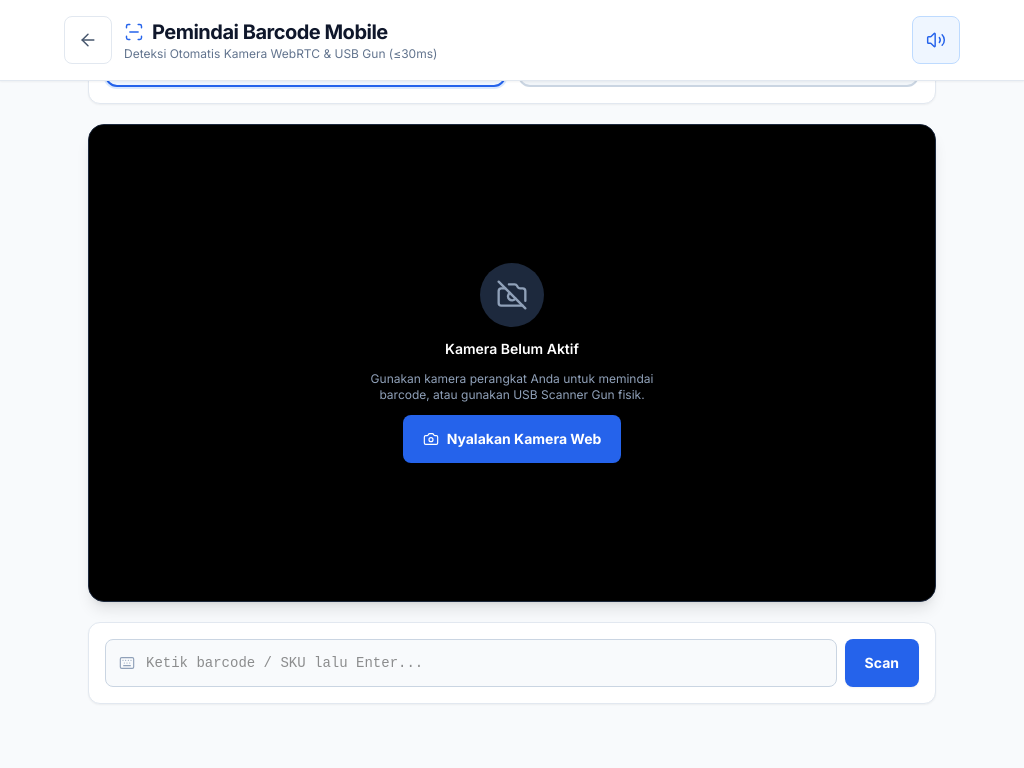
it: Scanner PUTAWAY mode uses real backend › product with no staging stock shows error and does not post
(page scrolled)
In the field with placeholder "Ketik barcode / SKU lalu Enter...": (471,663) x1=105 y1=639 x2=837 y2=687, type "RAK-A-01"
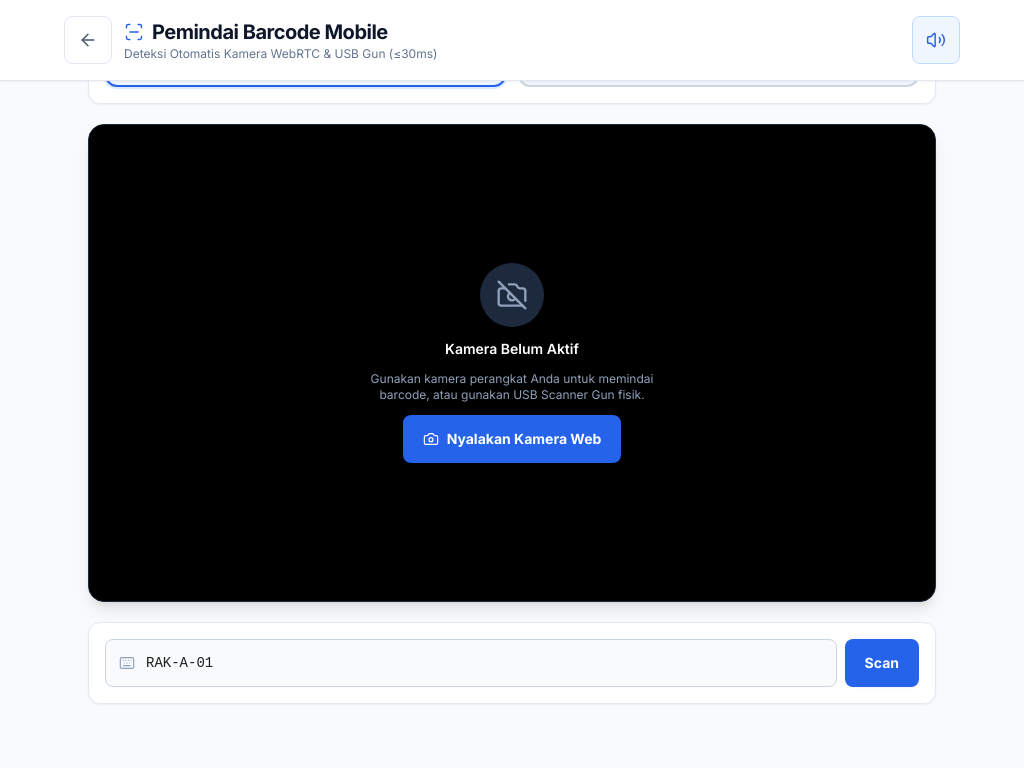
Submit the form with placeholder "Ketik barcode", box x1=105 y1=639 x2=919 y2=687
(page scrolled)
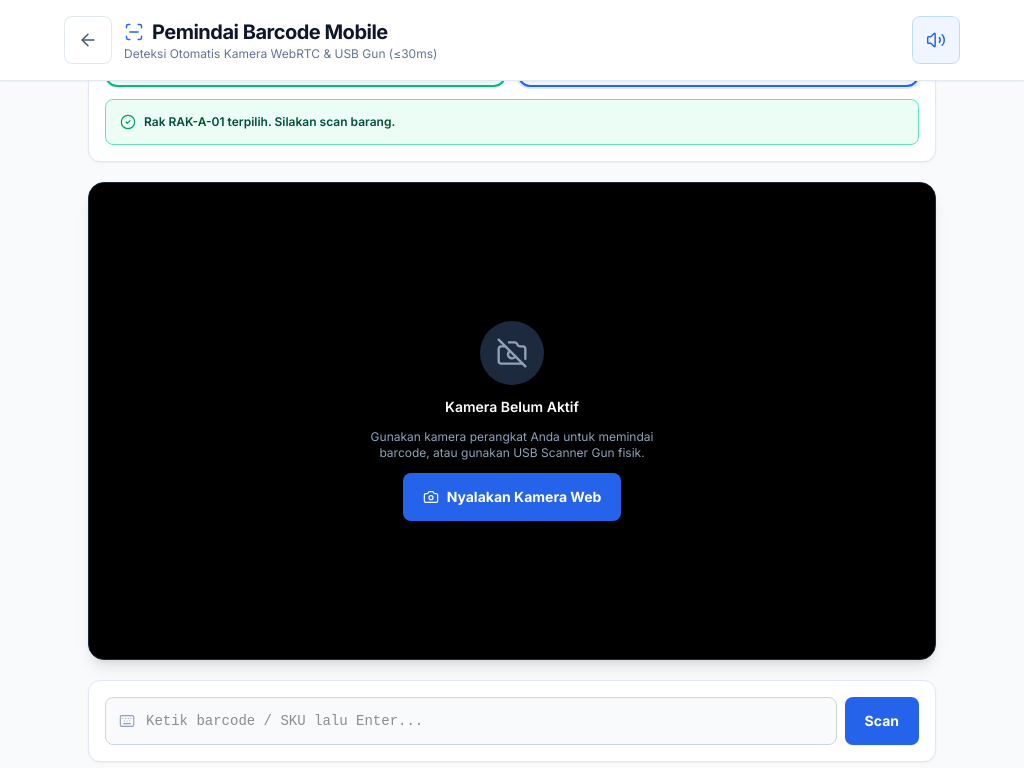
In the field with placeholder "Ketik barcode / SKU lalu Enter...": (471,721) x1=105 y1=697 x2=837 y2=745, type "GULA"
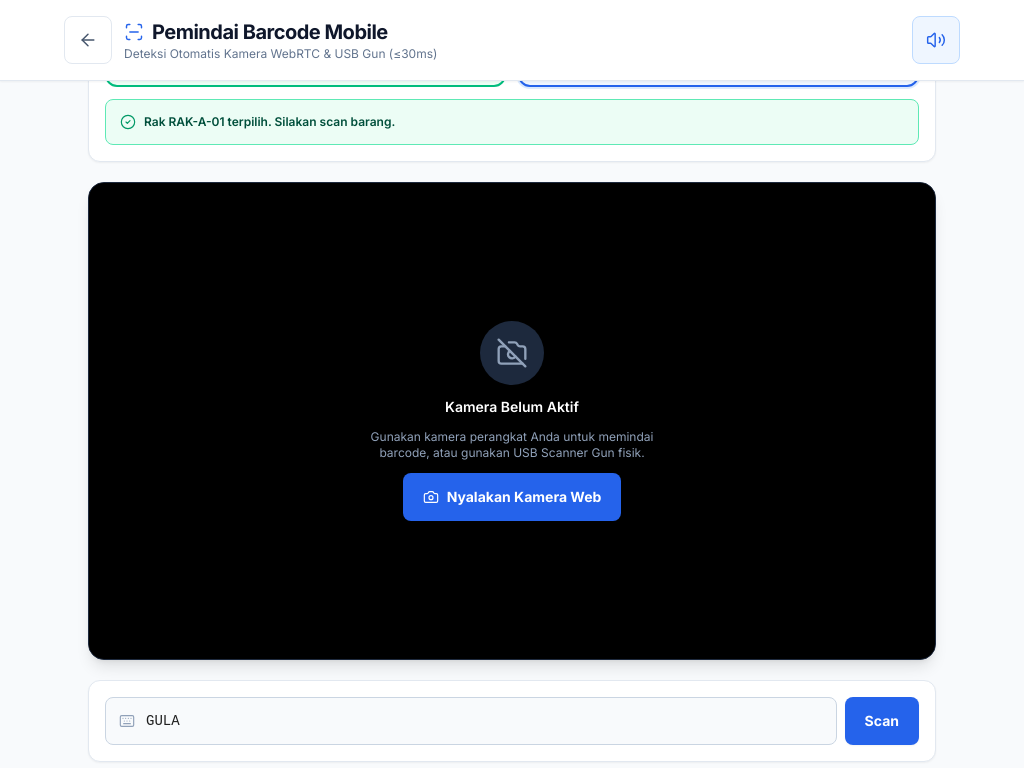
Submit the form with placeholder "Ketik barcode", box x1=105 y1=697 x2=919 y2=745
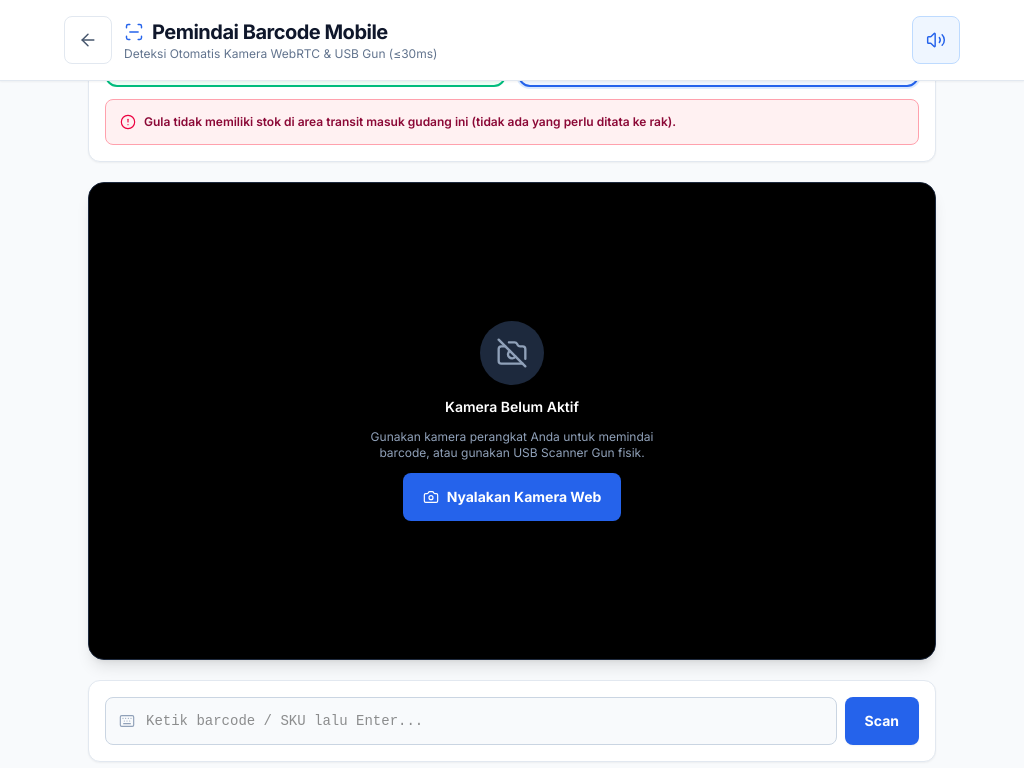
Check: the text "tidak memiliki stok di area transit masuk" is shown, box x1=144 y1=114 x2=676 y2=129
